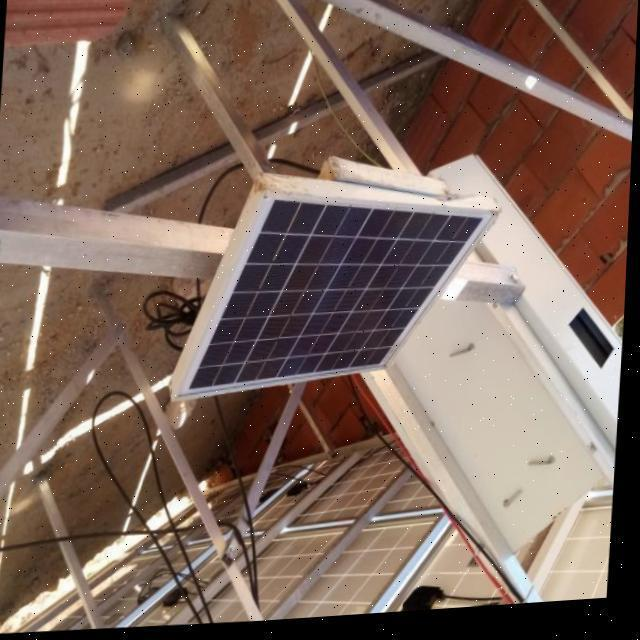Normal Solar Panel: (178, 184, 502, 408)
